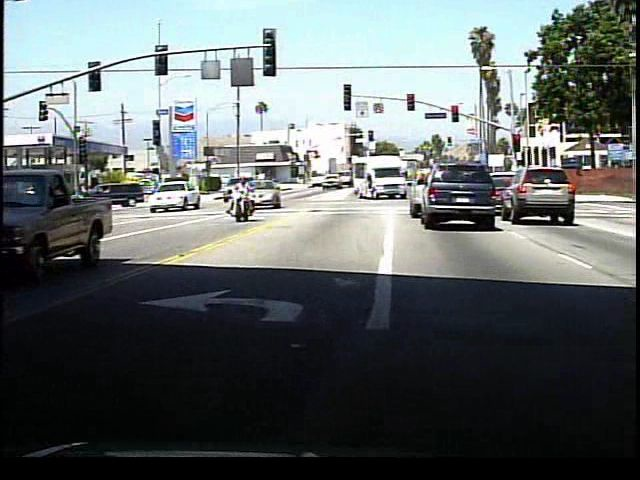person: (229, 178, 255, 224)
